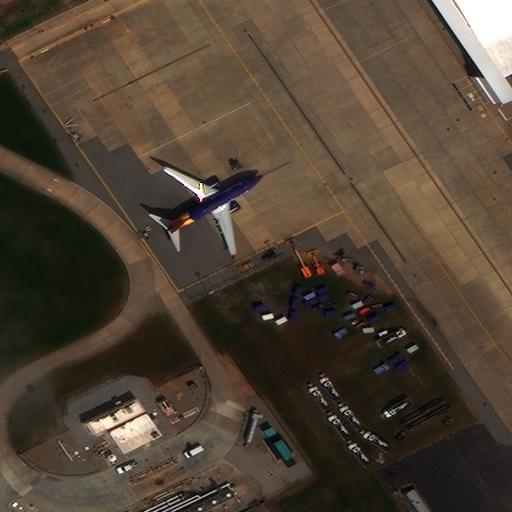Medium Civil Transport: (165, 165, 263, 253)
